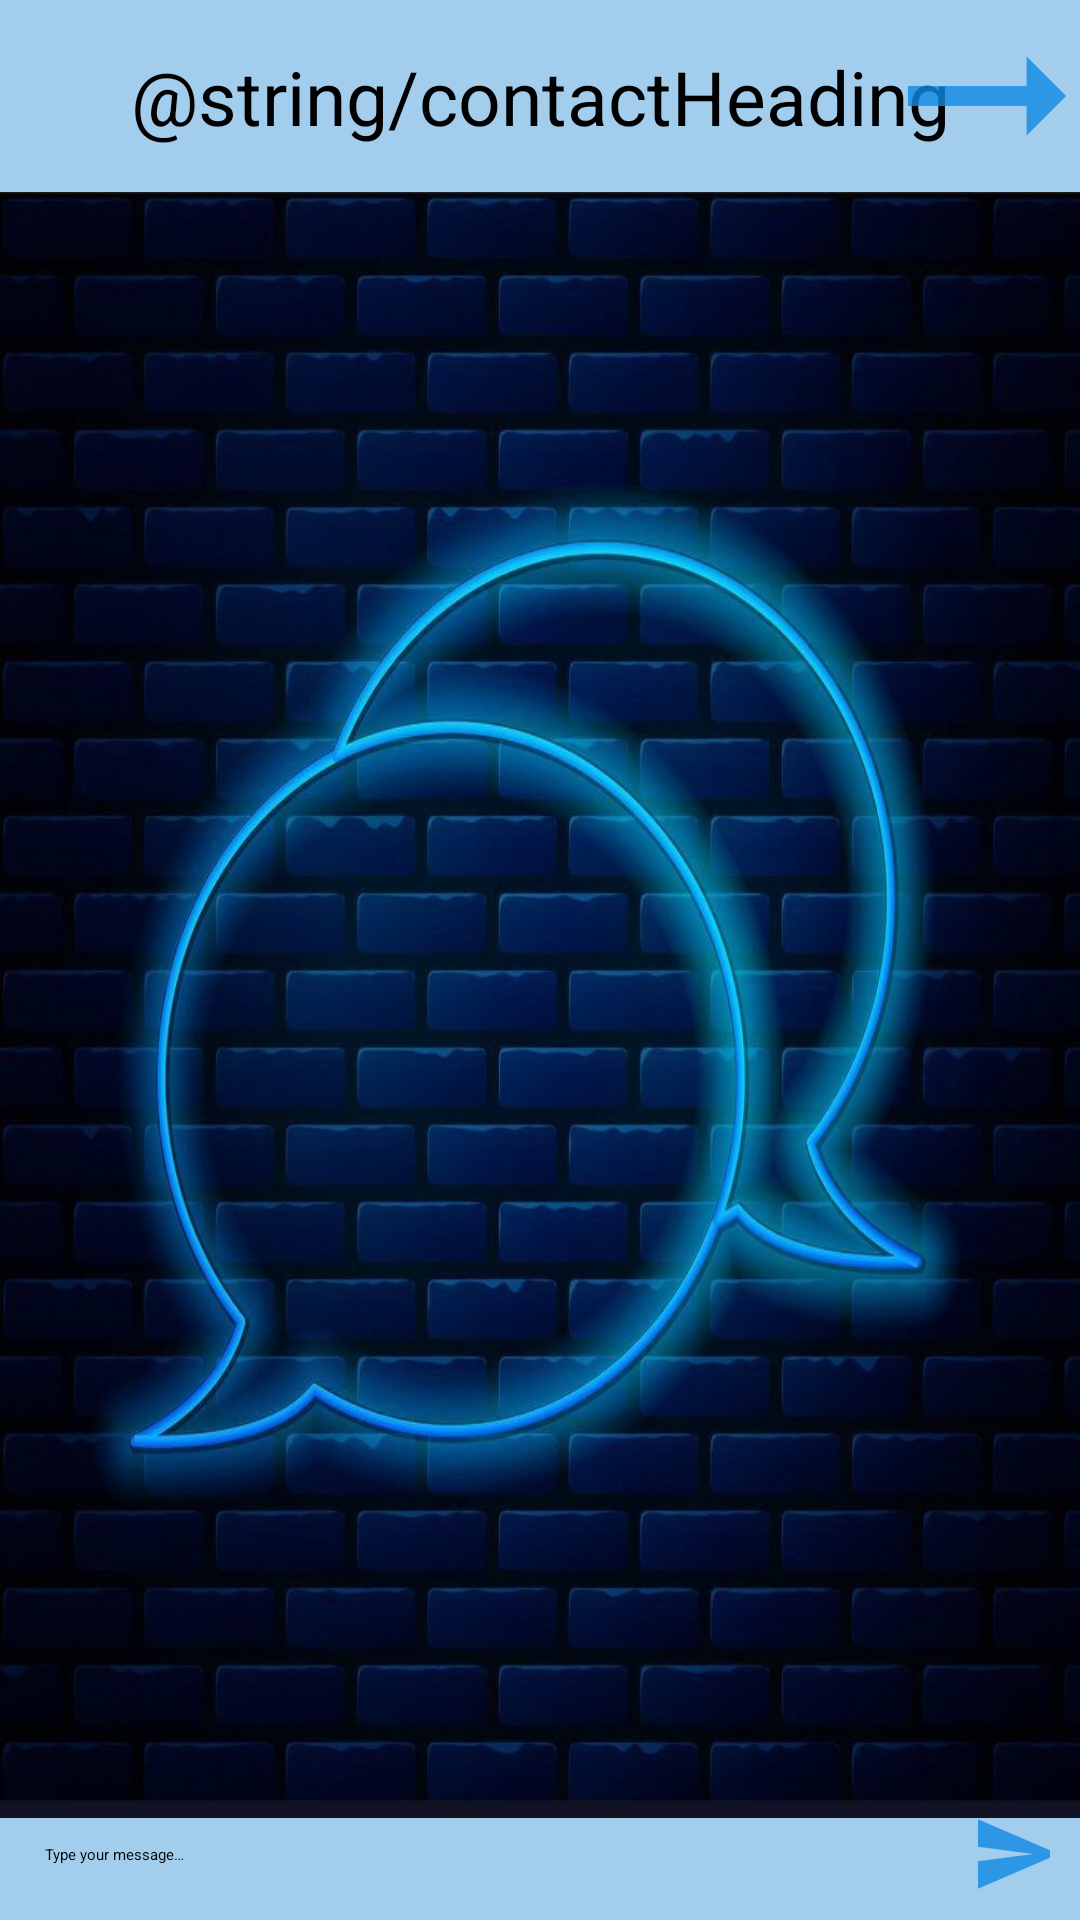

Screen size 1080×1920. Icon name, then its box in pixels as Rect(x1, y1, x2, y2):
send: Rect(978, 1819, 1050, 1889)
